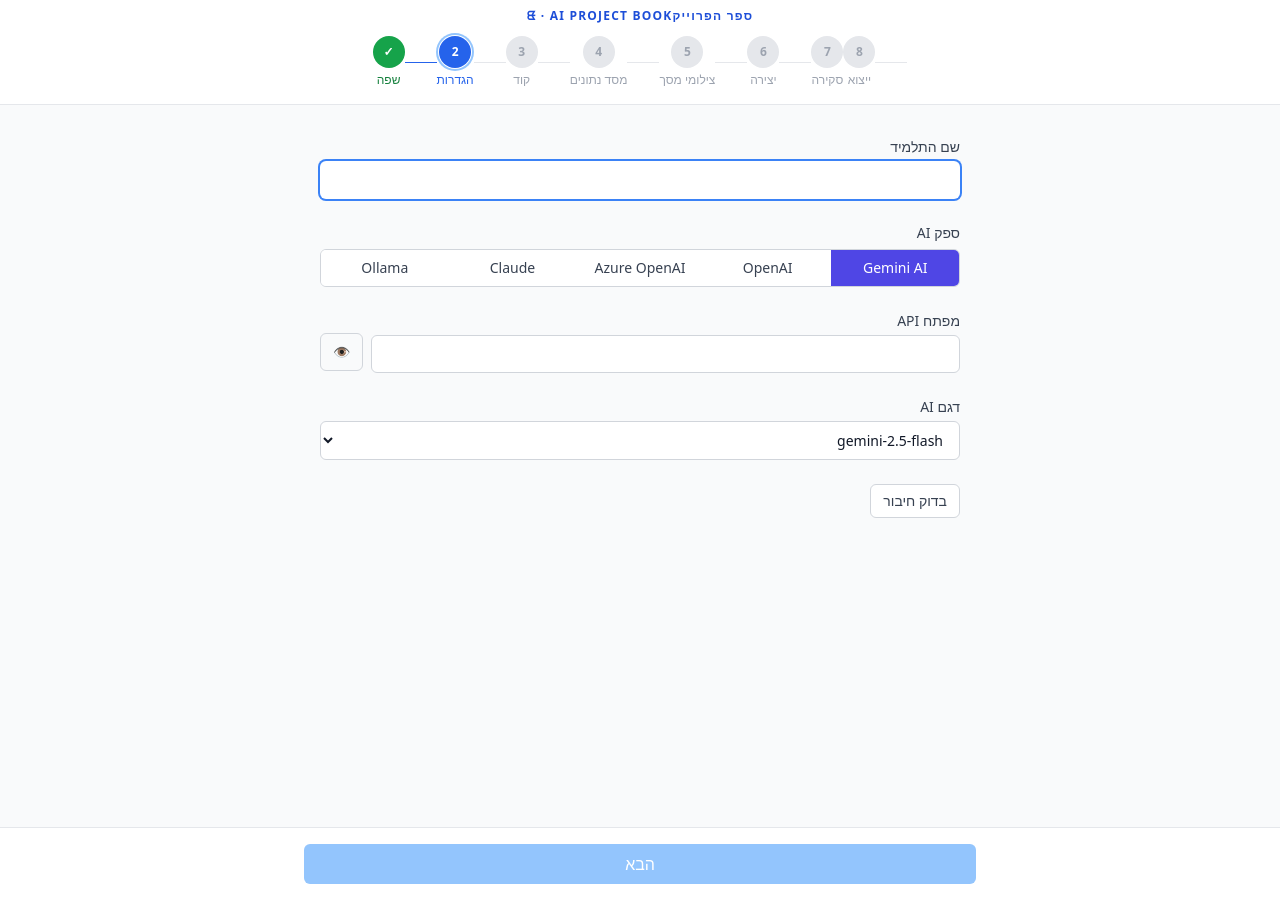
Test: SetupPage › shows error message on failed connection test
In the field labelled "שם התלמיד": (640, 180) [320,161,960,199], type "Test Student"
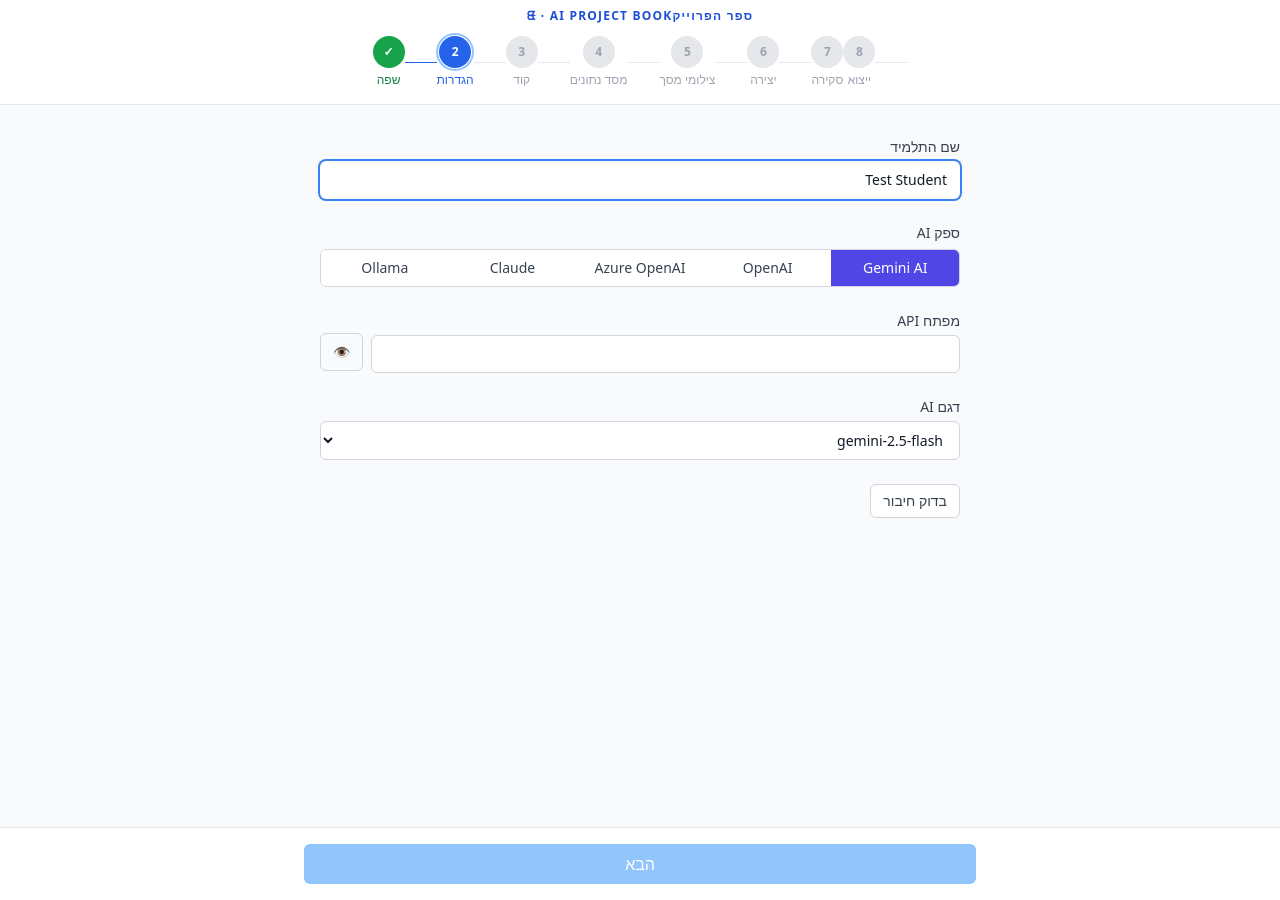
In the password field labelled "מפתח API": (666, 354) [371,335,960,373], type "bad-key"
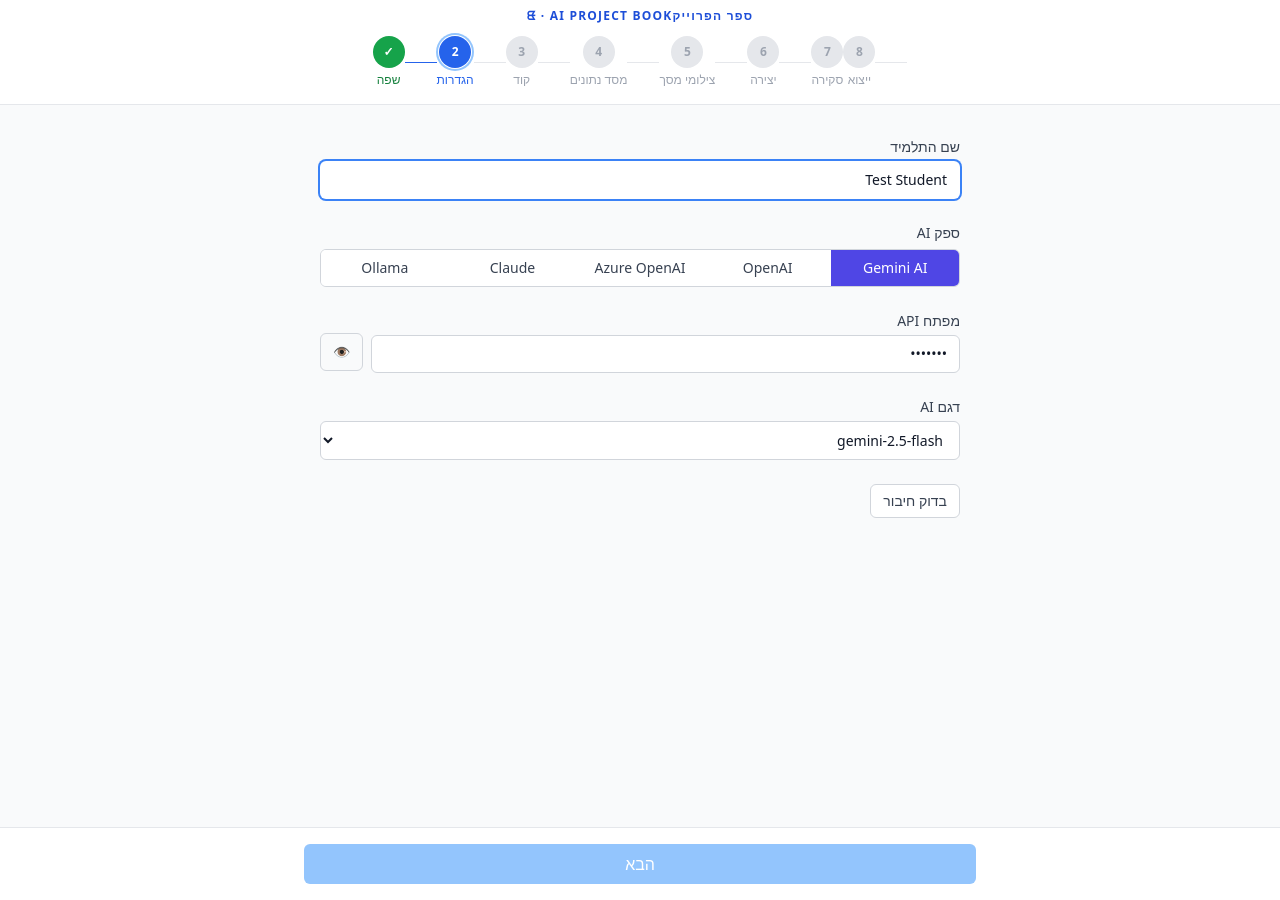
Click the button "בדוק חיבור": click(915, 501) [870,484,960,518]
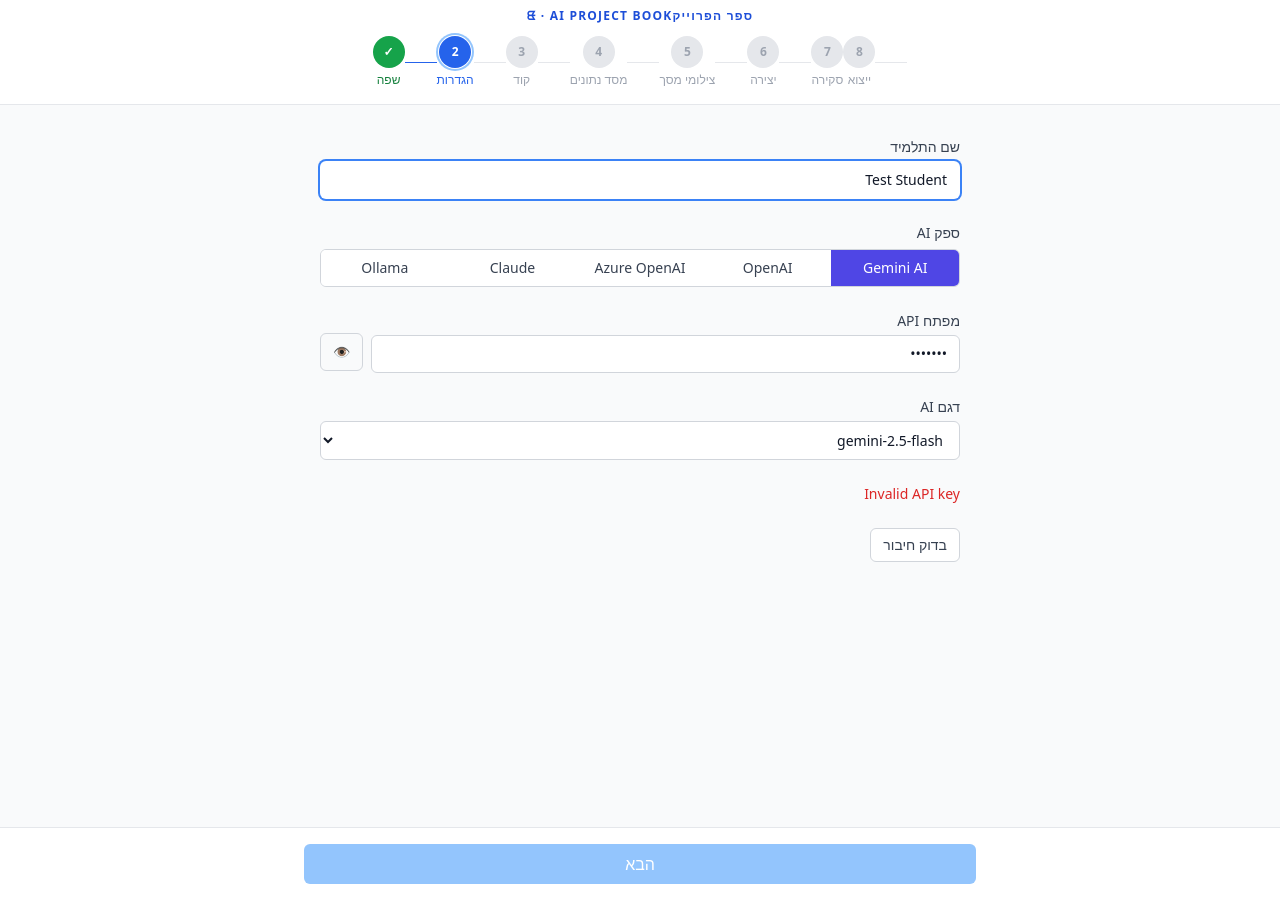
Expected: the text "Invalid API key" is shown, [864,484,960,503]
